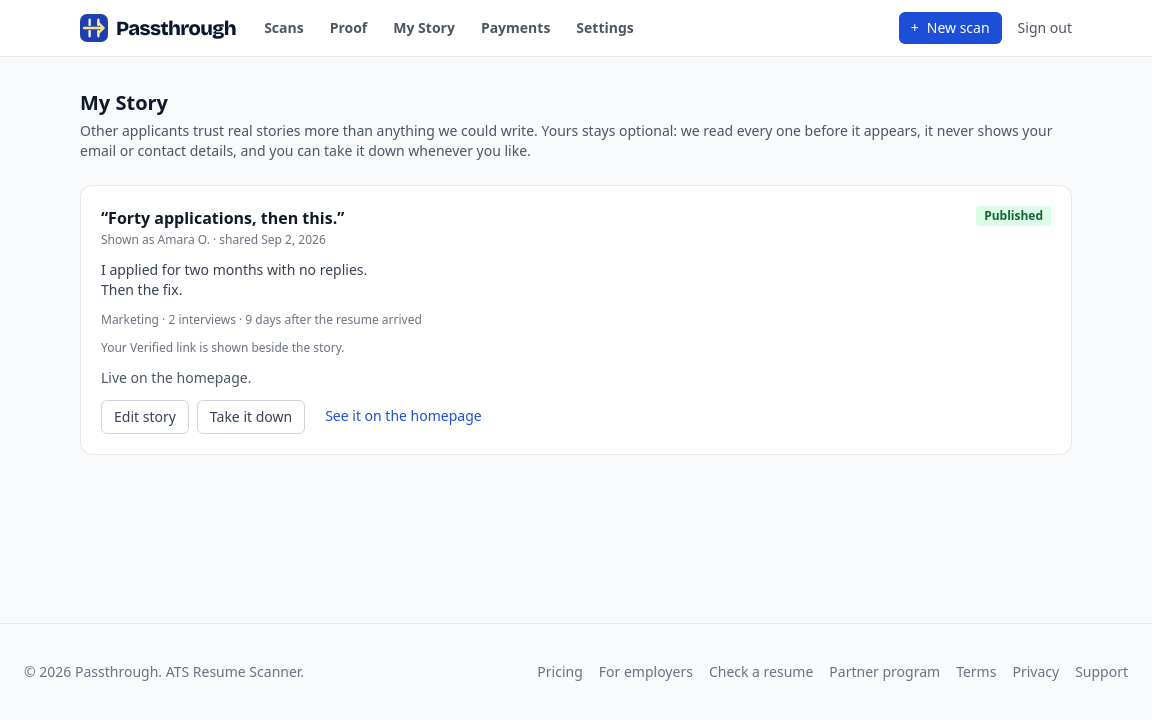
Test case: My Story › takes a story down only after confirming, then re-reads the list
The width and height of the screenshot is (1152, 720).
Click the button "Take it down" at (251, 417), box [197,400,305,434]
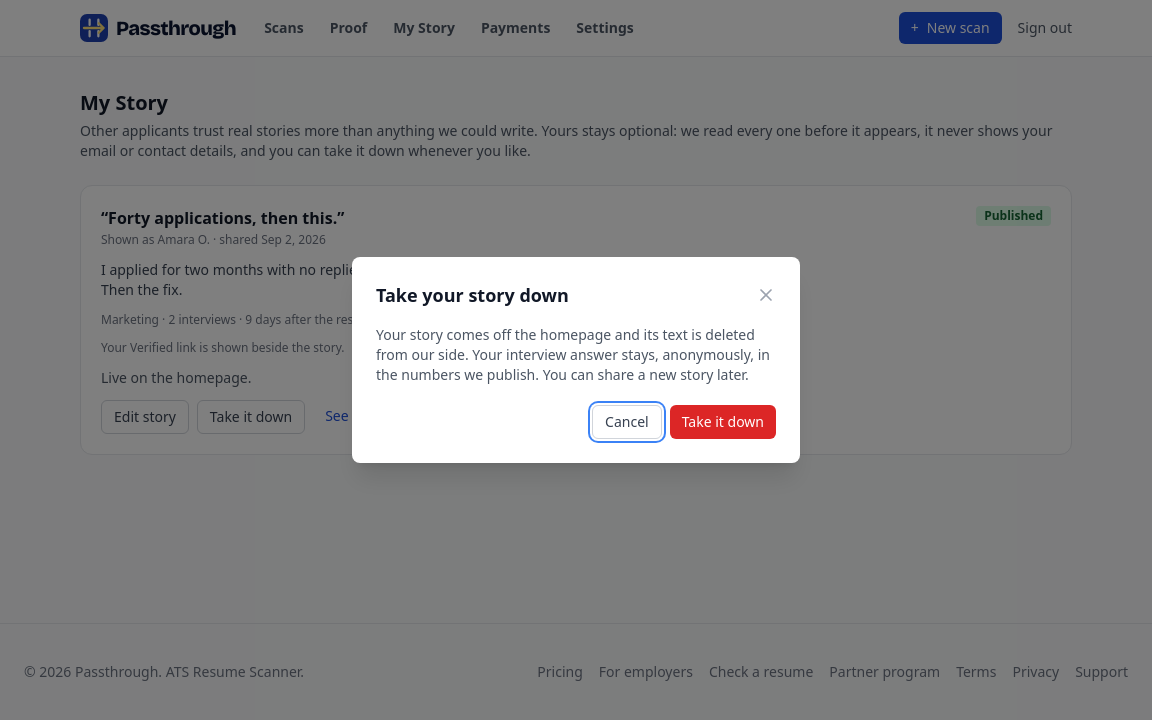
Click the button "Take it down" at (723, 422), box [670,405,776,439]
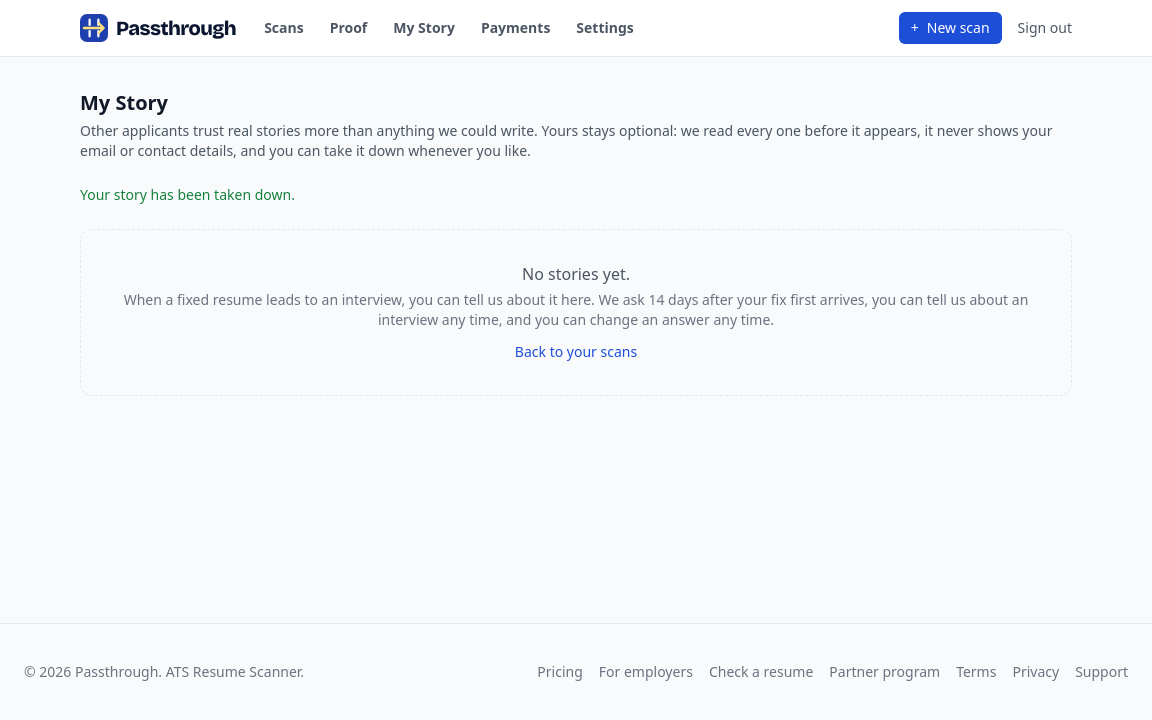
Result: the text "Your story has been taken down." is shown at [80,185,295,204]
Result: the text "No stories yet." is shown at [522,263,630,285]
